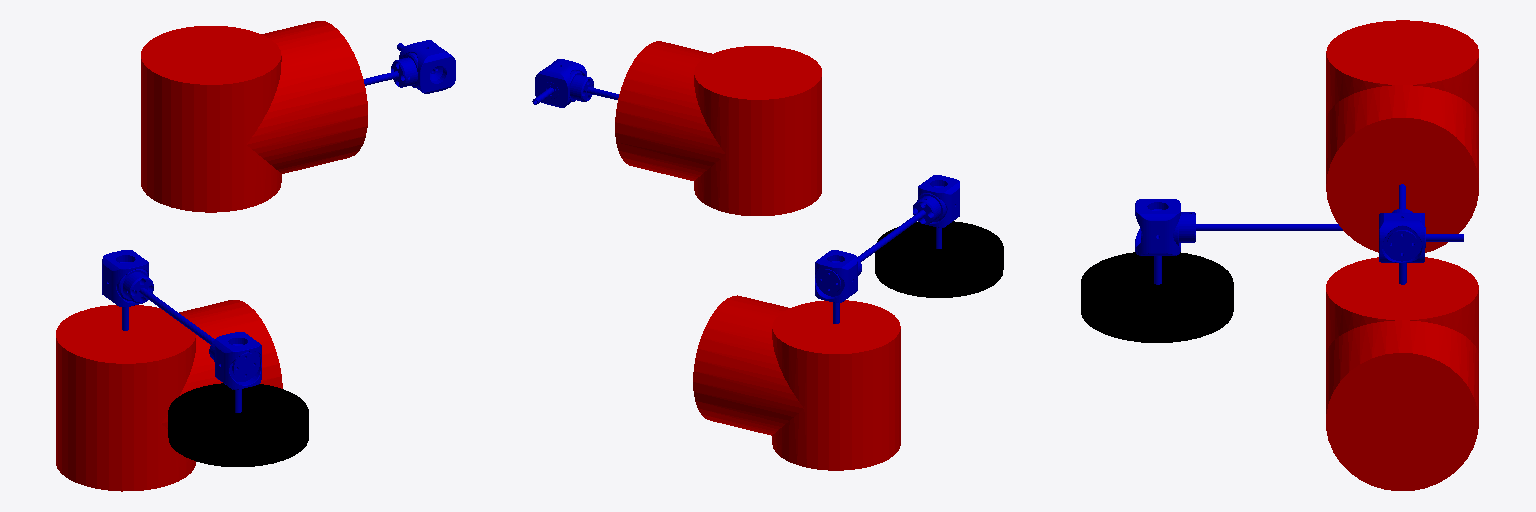
The robot description file, URDF, robot "node42":
<?xml version="1.0"?>
<robot  name="node42" >
 <material  name="blue" >
  <color  rgba="0 0 0.8 1.0" />
 </material>
 <material  name="red" >
  <color  rgba="0.8 0 0 1.0" />
 </material>
 <material  name="black" >
  <color  rgba="0.0 0.0 0.0 1.0" />
 </material>
 <link  name="root_mod" >
  <visual >
   <origin  rpy="0 0 0"  xyz="0 0 0" />
   <material  name="black" />
   <geometry >
    <cylinder  radius="0.05"  length="0.02" />
   </geometry>
  </visual>
 </link>
 <link  name="linkMod_1" >
  <inertial >
   <origin  rpy="-0.0 1.5707963267948966 0.0"  xyz="-8.881784197001253e-18 0.0 0.04" />
   <mass  value="0.2" />
   <inertia  ixz="0.0"  iyz="0.0"  iyy="0.0"  ixy="0.0"  ixx="0.0011127270000000002"  izz="0.0011127270000000002" />
  </inertial>
  <visual >
   <origin  rpy="-0.0 1.5707963267948966 0.0"  xyz="-8.881784197001253e-18 0.0 0.04" />
   <material  name="blue" />
   <geometry >
    <mesh  scale="0.001 0.001 0.001"  filename="./meshes/l1_module.obj" />
   </geometry>
  </visual>
 </link>
 <joint  type="revolute"  name="joint_1_revolute" >
  <parent  link="root_mod" />
  <child  link="linkMod_1" />
  <origin  rpy="0 0 0"  xyz="0.0 0.0 0.01" />
  <axis  xyz="0.0 0.0 1.0" />
 </joint>
 <transmission  name="act_joint_1_revolute" >
  <type  xmltext="SimpleTransmission" >
   SimpleTransmission
  </type>
  <actuator  name="trans_joint_1_revolute" >
   <mechanicalreduction  xmltext="1" >
    1
   </mechanicalreduction>
  </actuator>
  <joint  name="joint_1_revolute" />
 </transmission>
 <link  name="jointMod_2" >
  <inertial >
   <origin  rpy="-1.5707963267948963 0.0 0.0"  xyz="0.0 7.771561172376096e-19 -0.0035" />
   <mass  value="0.6" />
   <inertia  ixz="0.0"  iyz="0.0"  iyy="0.0007418180000000001"  ixy="0.0"  ixx="0.0007418180000000001"  izz="0.0011127270000000002" />
  </inertial>
  <visual >
   <origin  rpy="-1.5707963267948963 0.0 0.0"  xyz="0.0 7.771561172376096e-19 -0.0035" />
   <material  name="red" />
   <geometry >
    <mesh  scale="0.001 0.001 0.001"  filename="./meshes/j_module.obj" />
   </geometry>
  </visual>
 </link>
 <joint  type="fixed"  name="joint_2_fixed" >
  <parent  link="linkMod_1" />
  <child  link="jointMod_2" />
  <origin  rpy="0 0 0"  xyz="0.0 0.16 0.0" />
  <axis  xyz="0.0 0.0 -1.0" />
 </joint>
 <link  name="linkMod_3" >
  <inertial >
   <origin  rpy="1.5707963240855651 -1.2497703982816688e-08 -3.141592641092089"  xyz="0.03999999999999998 4.999081662324221e-10 -4.999081648780052e-10" />
   <mass  value="0.2" />
   <inertia  ixz="0.0"  iyz="0.0"  iyy="0.0"  ixy="0.0"  ixx="0.0011127270000000002"  izz="0.0011127270000000002" />
  </inertial>
  <visual >
   <origin  rpy="1.5707963240855651 -1.2497703982816688e-08 -3.141592641092089"  xyz="0.03999999999999998 4.999081662324221e-10 -4.999081648780052e-10" />
   <material  name="blue" />
   <geometry >
    <mesh  scale="0.001 0.001 0.001"  filename="./meshes/l2_module.obj" />
   </geometry>
  </visual>
 </link>
 <joint  type="revolute"  name="joint_3_revolute" >
  <parent  link="jointMod_2" />
  <child  link="linkMod_3" />
  <origin  rpy="0 0 0"  xyz="0.03 0.00030000000000001174 -0.053000000000000005" />
  <axis  xyz="1.0 0.0 0.0" />
 </joint>
 <transmission  name="act_joint_3_revolute" >
  <type  xmltext="SimpleTransmission" >
   SimpleTransmission
  </type>
  <actuator  name="trans_joint_3_revolute" >
   <mechanicalreduction  xmltext="1" >
    1
   </mechanicalreduction>
  </actuator>
  <joint  name="joint_3_revolute" />
 </transmission>
 <link  name="jointMod_4" >
  <inertial >
   <origin  rpy="1.5707963267948963 0.0 0.0"  xyz="0.0 7.771561172376096e-19 0.0035" />
   <mass  value="0.6" />
   <inertia  ixz="0.0"  iyz="0.0"  iyy="0.0007418180000000001"  ixy="0.0"  ixx="0.0007418180000000001"  izz="0.0011127270000000002" />
  </inertial>
  <visual >
   <origin  rpy="1.5707963267948963 0.0 0.0"  xyz="0.0 7.771561172376096e-19 0.0035" />
   <material  name="red" />
   <geometry >
    <mesh  scale="0.001 0.001 0.001"  filename="./meshes/j_module.obj" />
   </geometry>
  </visual>
 </link>
 <joint  type="fixed"  name="joint_4_fixed" >
  <parent  link="linkMod_3" />
  <child  link="jointMod_4" />
  <origin  rpy="0 0 0"  xyz="0.0400000018496602 9.892714319227296e-11 0.14799999950009177" />
  <axis  xyz="0.0 -0.0 1.0" />
 </joint>
 <link  name="linkMod_5" >
  <inertial >
   <origin  rpy="0.0 0.0 1.5707963267948963"  xyz="0.148 -3.286260152890463e-17 0.0" />
   <mass  value="0.2" />
   <inertia  ixz="0.0"  iyz="0.0"  iyy="0.0"  ixy="0.0"  ixx="0.0011127270000000002"  izz="0.0011127270000000002" />
  </inertial>
  <visual >
   <origin  rpy="0.0 0.0 1.5707963267948963"  xyz="0.148 -3.286260152890463e-17 0.0" />
   <material  name="blue" />
   <geometry >
    <mesh  scale="0.001 0.001 0.001"  filename="./meshes/l3_module.obj" />
   </geometry>
  </visual>
 </link>
 <joint  type="revolute"  name="joint_5_revolute" >
  <parent  link="jointMod_4" />
  <child  link="linkMod_5" />
  <origin  rpy="0 0 0"  xyz="0.03 -0.0002999999999999882 0.053000000000000005" />
  <axis  xyz="1.0 0.0 0.0" />
 </joint>
 <transmission  name="act_joint_5_revolute" >
  <type  xmltext="SimpleTransmission" >
   SimpleTransmission
  </type>
  <actuator  name="trans_joint_5_revolute" >
   <mechanicalreduction  xmltext="1" >
    1
   </mechanicalreduction>
  </actuator>
  <joint  name="joint_5_revolute" />
 </transmission>
 <link  name="eef" />
 <joint  type="fixed"  name="eef_joint" >
  <parent  link="linkMod_5" />
  <child  link="eef" />
  <origin  rpy="0 0 0"  xyz="0.148 0.039999999999999966 0.0" />
  <axis  xyz="0.0 1.0 0.0" />
 </joint>
</robot>

--- Facts derived from the render (not from the file) ---
The picture shows the robot from 3 angles, left to right: view 1: azimuth 30°, elevation 25°; view 2: azimuth 150°, elevation 25°; view 3: azimuth 270°, elevation 25°; orthographic projection.
Robot: node42 — 7 links, 6 joints (3 revolute, 3 fixed); root link root_mod; default pose: every joint at zero.
Visible links, largest first — view 1: jointMod_4, jointMod_2, root_mod, linkMod_1, linkMod_5; view 2: jointMod_4, jointMod_2, root_mod, linkMod_1, linkMod_5; view 3: jointMod_2, jointMod_4, root_mod, linkMod_1, linkMod_5.
Boxes of the visible links, x1,y1,x2,y2 form: jointMod_4: [141, 21, 367, 212]; jointMod_2: [56, 300, 282, 491]; root_mod: [168, 383, 308, 466]; linkMod_1: [102, 250, 261, 412]; linkMod_5: [364, 40, 455, 93]; jointMod_4: [615, 41, 821, 215]; jointMod_2: [693, 295, 900, 470]; root_mod: [875, 221, 1003, 297]; linkMod_1: [815, 175, 959, 323]; linkMod_5: [532, 59, 618, 107]; jointMod_2: [1326, 257, 1478, 490]; jointMod_4: [1326, 20, 1478, 252]; root_mod: [1081, 252, 1233, 342]; linkMod_1: [1135, 199, 1406, 284]; linkMod_5: [1379, 184, 1463, 262].
Size in the robot's own frame: 0.3123 by 0.2603 by 0.302 metres.
4 mesh visuals loaded from 4 distinct referenced files (3 OBJ); not drawn: 1 (reference not matched to a file when rendering).